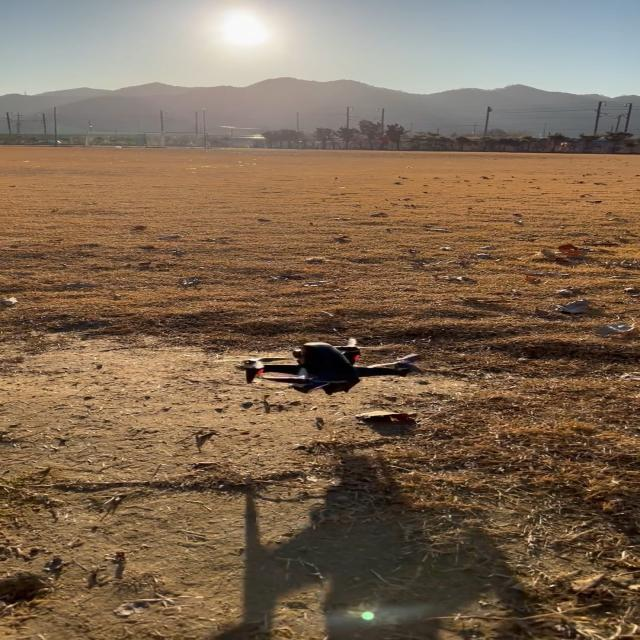drone: (212, 338, 424, 395)
